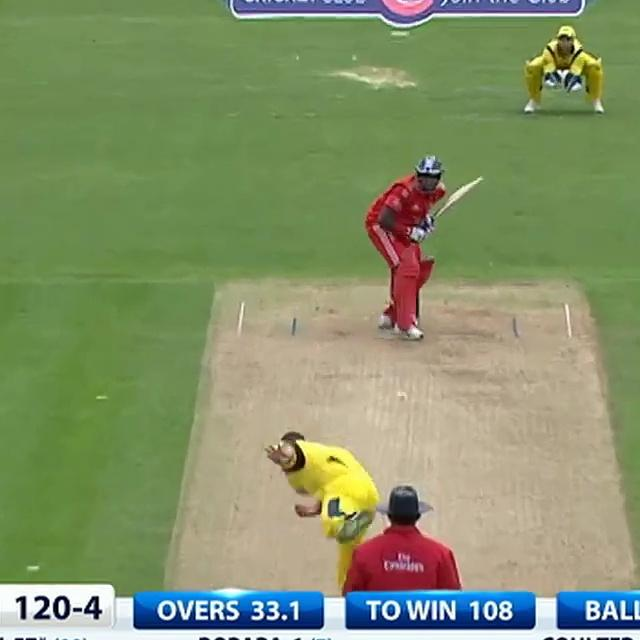umpire: (341, 478, 467, 594)
